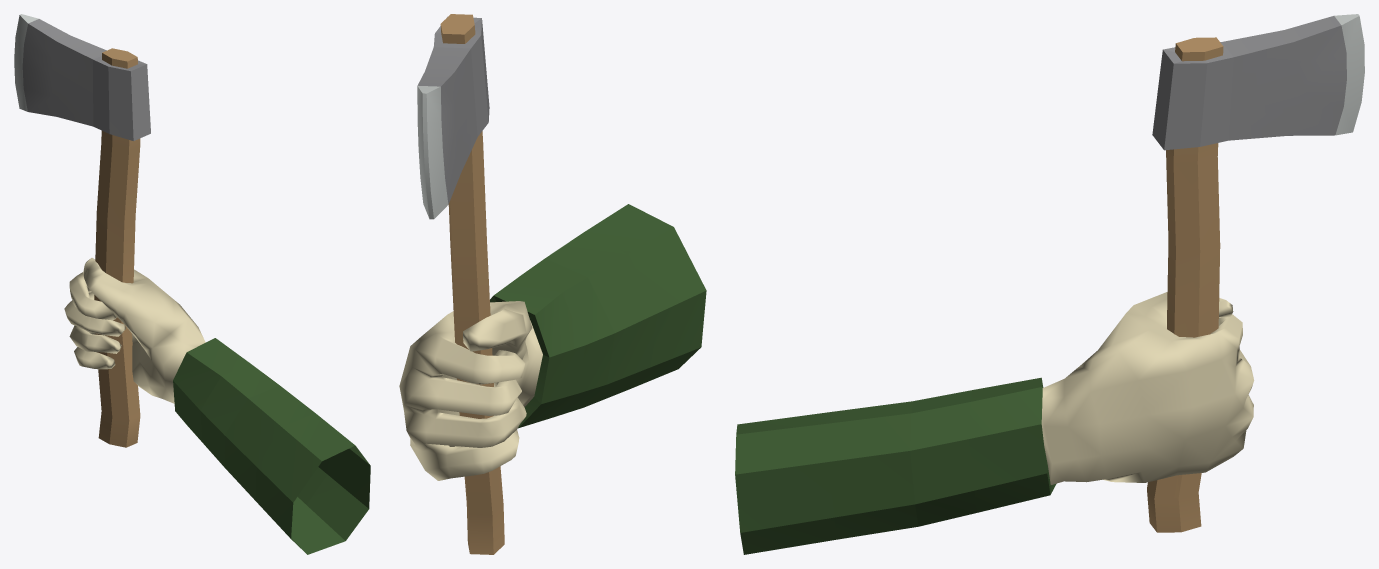
The model's file is EquipedAxe.fbx.
3 renders of one model, left to right at view 1: azimuth 30°, elevation 25°; view 2: azimuth 150°, elevation 25°; view 3: azimuth 270°, elevation 25°, orthographic. The views are drawn at different scales.
Parts seen in each view (by area): view 1: EquipedAxe; view 2: EquipedAxe; view 3: EquipedAxe.
Boxes of the visible parts, <box> form: EquipedAxe: <box>14,14,370,554</box>; EquipedAxe: <box>399,14,706,554</box>; EquipedAxe: <box>735,14,1364,554</box>.
Bounding box in the file's own units: 0.4877 × 1.51 × 1.74.
Materials: 1 (1 with a texture image).
